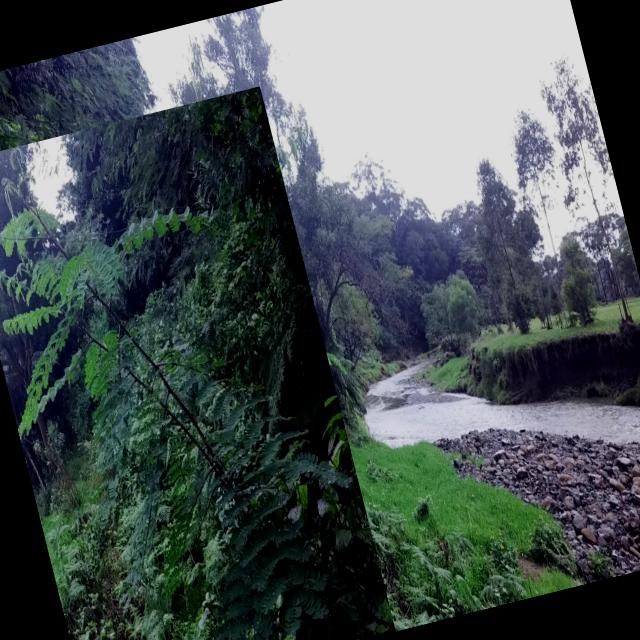Mysore-Thorn-Weed: (0, 86, 395, 640)
